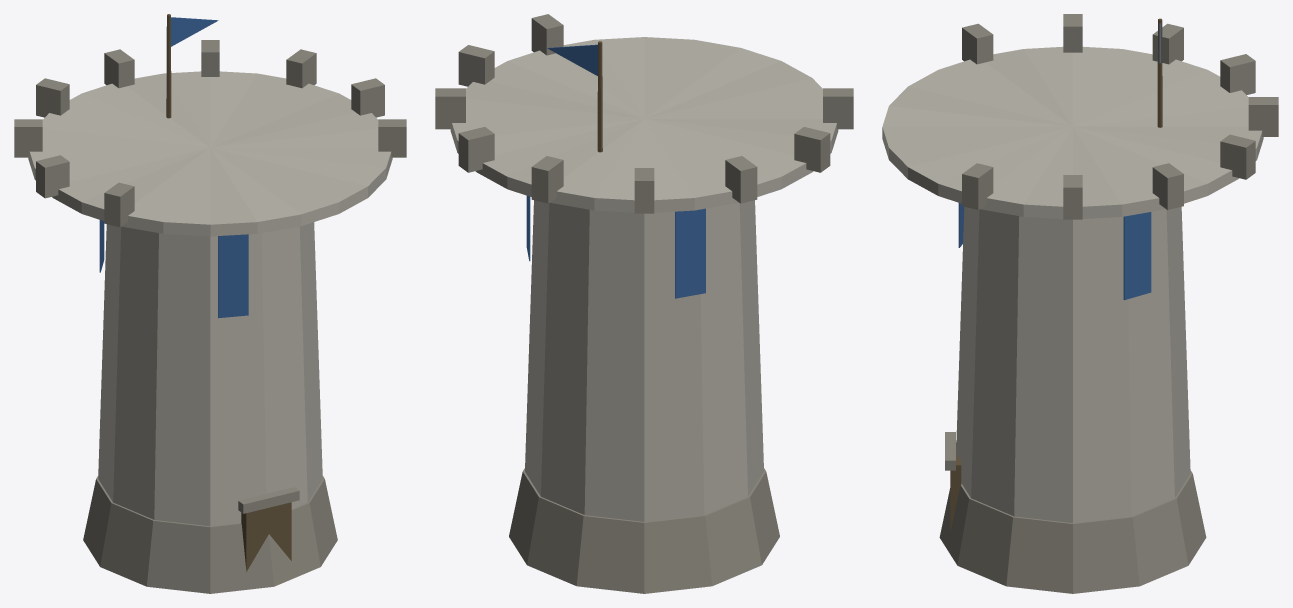
Rendered from tower_cliff.glb.
3 views of the same model, side by side, from view 1: azimuth 30°, elevation 25°; view 2: azimuth 150°, elevation 25°; view 3: azimuth 270°, elevation 25° (orthographic). The views are drawn at different scales.
Visible parts, largest first — view 1: tower_cliff; view 2: tower_cliff; view 3: tower_cliff.
Boxes of the visible parts, x1,y1,x2,y2 form: tower_cliff: (14,14,406,593); tower_cliff: (435,14,853,593); tower_cliff: (882,14,1278,593).
Size of the model in its own units: 15.1 by 21 by 14.55.
